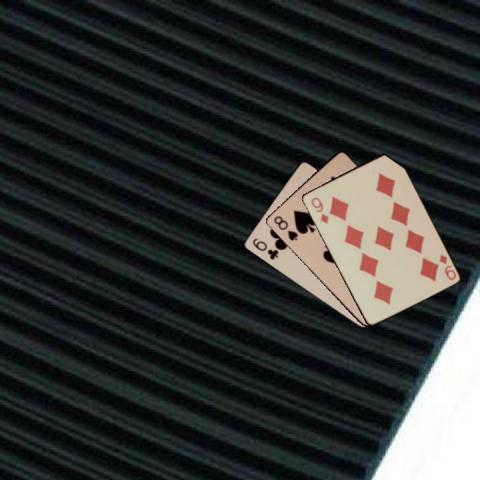6c: (250, 236, 280, 262)
8s: (271, 213, 299, 242)
9d: (308, 194, 329, 225), (436, 252, 457, 282)
